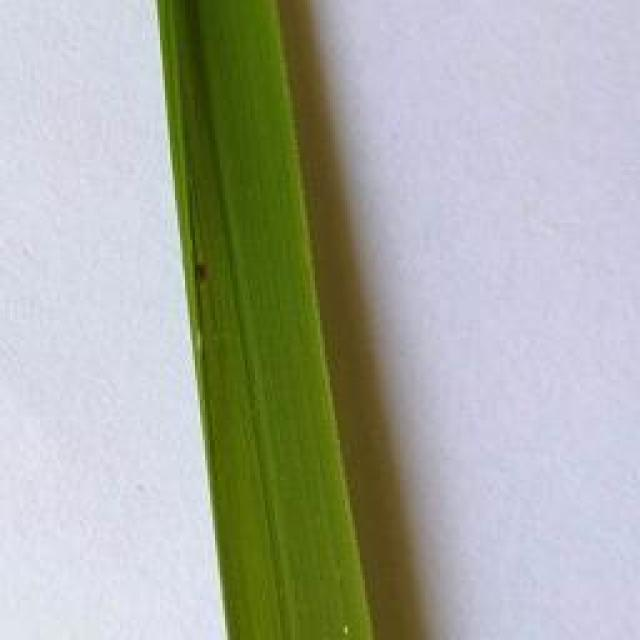Brown_Spot: (187, 256, 220, 291)
